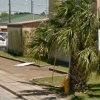Tree: (44, 3, 100, 97)
